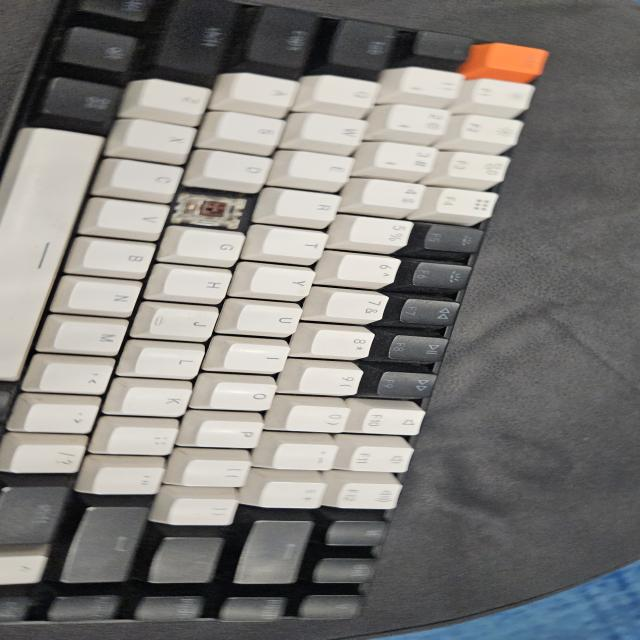C: (185, 196, 241, 226)
